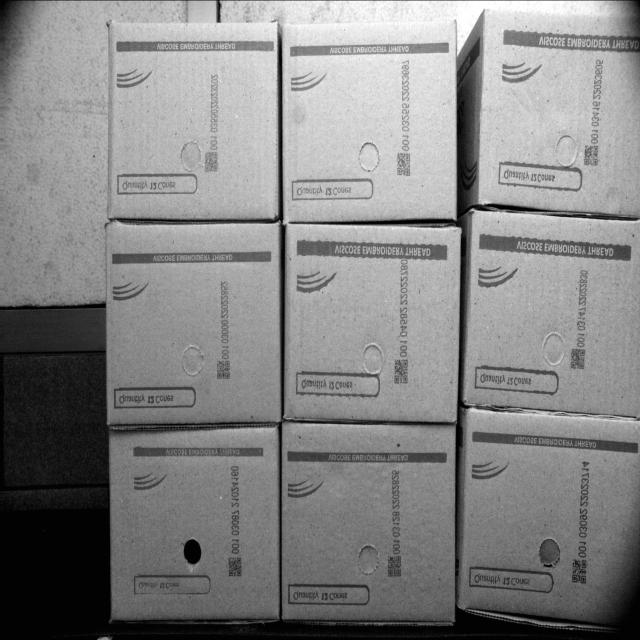cardboxes: (459, 417, 640, 624), (282, 15, 455, 224), (102, 224, 280, 426), (461, 210, 640, 408), (104, 17, 278, 220), (283, 223, 463, 417), (284, 19, 456, 217), (108, 23, 279, 220), (109, 426, 280, 621), (284, 422, 454, 616), (477, 11, 640, 204)
